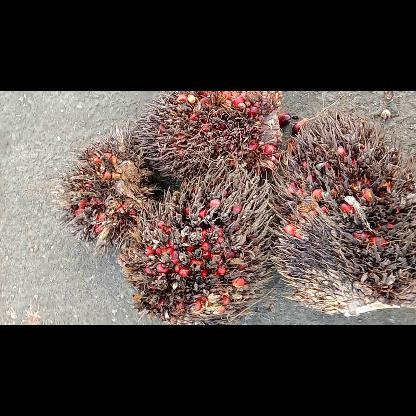Terlalu masak: (266, 109, 414, 316), (112, 164, 278, 324), (132, 90, 292, 194), (47, 120, 164, 260)
